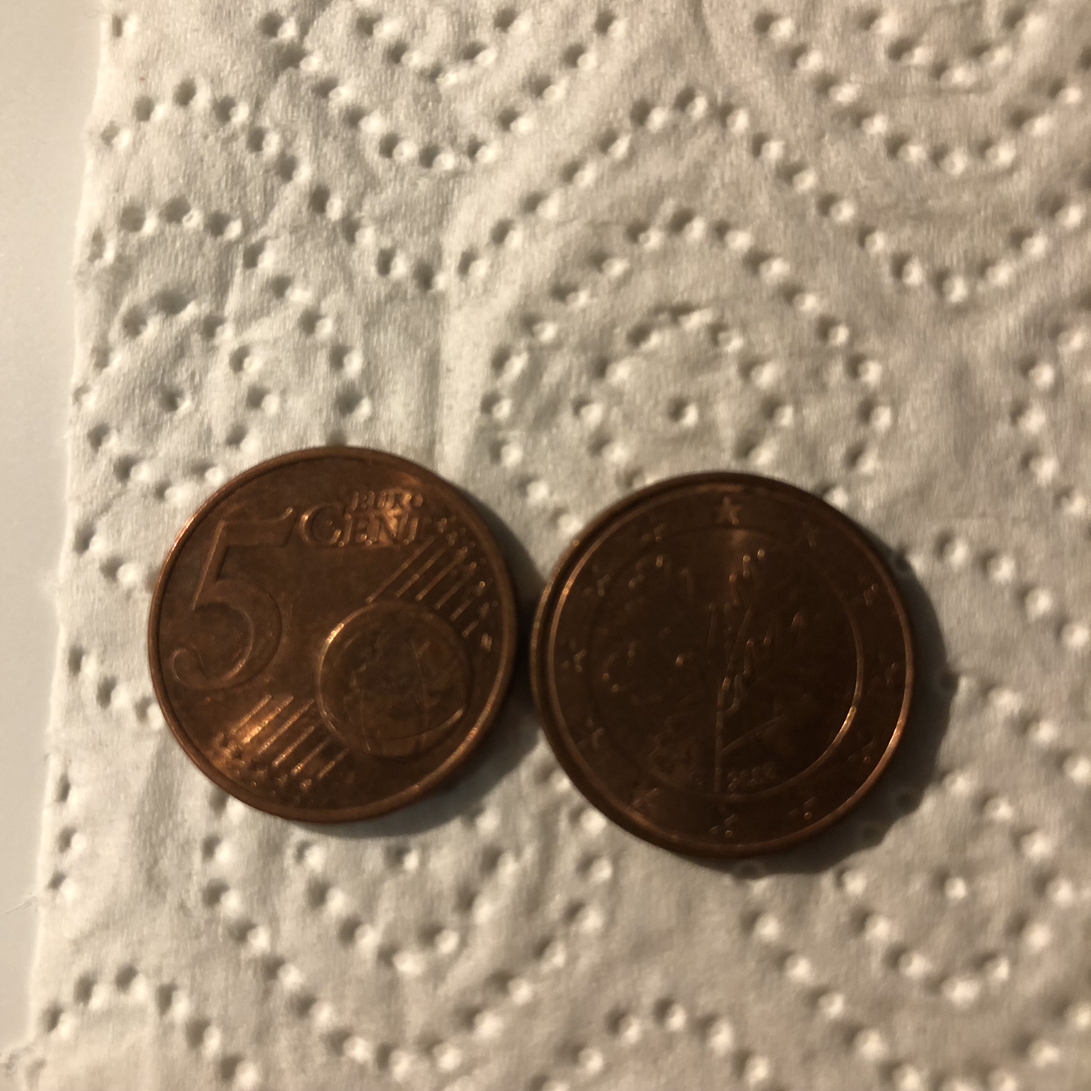5 cent: (145, 443, 520, 822), (533, 476, 908, 855)
